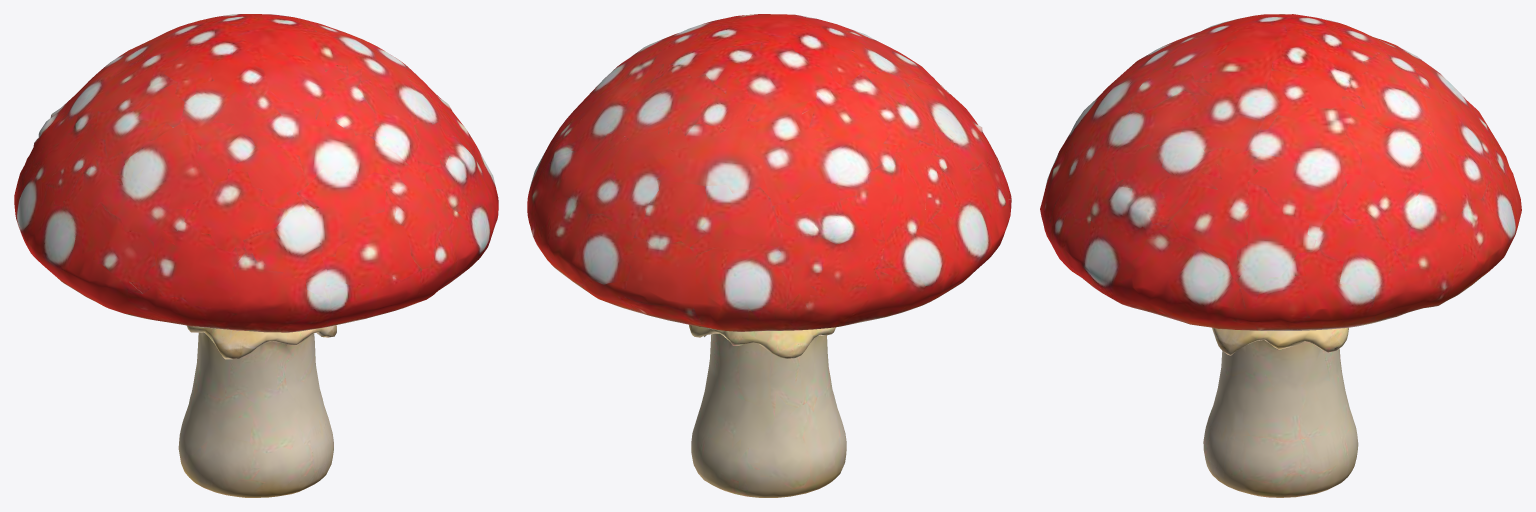
The model's file is red-mushroom.glb.
3 views of the same model, side by side, from view 1: azimuth 30°, elevation 25°; view 2: azimuth 150°, elevation 25°; view 3: azimuth 270°, elevation 25° (orthographic).
Visible parts, largest first — view 1: Mesh_0; view 2: Mesh_0; view 3: Mesh_0.
Boxes of the visible parts, x1=… form: Mesh_0: x1=14, y1=14, x2=498, y2=497; Mesh_0: x1=527, y1=14, x2=1011, y2=497; Mesh_0: x1=1040, y1=14, x2=1521, y2=497.
Size of the model in its own units: 2 by 2 by 1.99.
1 material, 1 textured.
